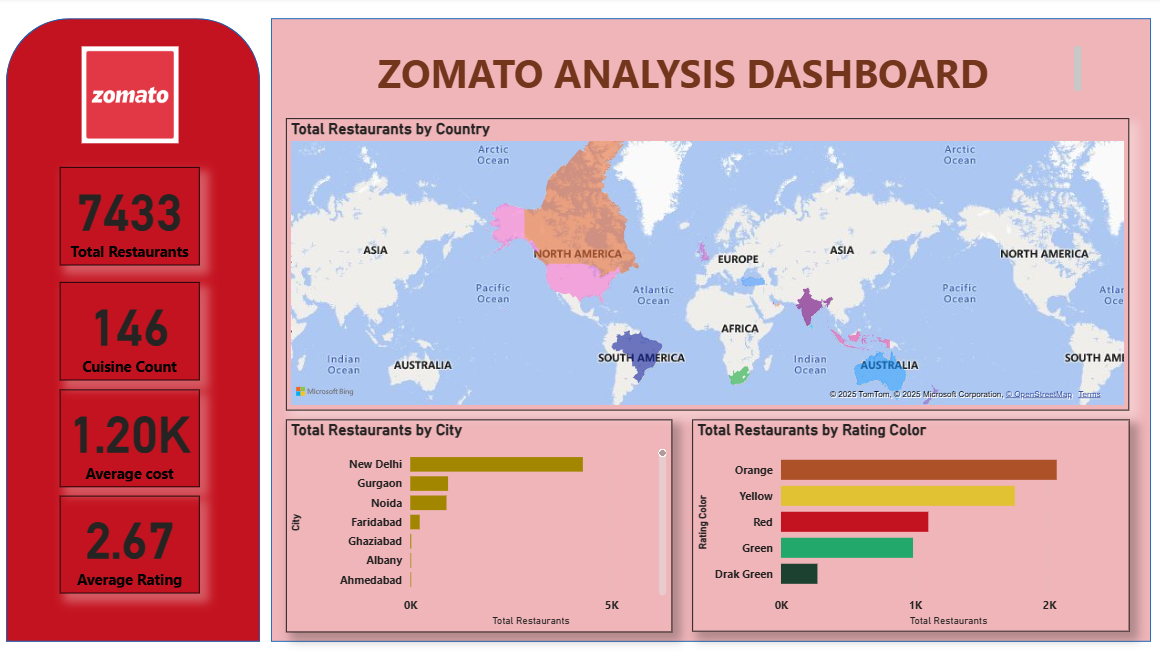

Layout of this report page (visuals, bound fields, positions):
{"tool":"powerbi","page":{"name":"Home ","canvas":[1280,720],"ordinal":0},"visuals":[{"type":"shape","box":[10.4,23.5,279,684.5],"z":0},{"type":"image","box":[88.7,49.5,116,116],"z":1000},{"type":"shape","box":[302.5,23.5,966.1,684.5],"z":2000},{"type":"textbox","box":[331.1,49.5,865.7,62.6],"z":3000},{"type":"card","fields":{"Values":["Zomato Table.Total Restaurants"]},"box":[70.4,186.4,153.8,108.2],"z":4000},{"type":"card","fields":{"Values":["Cuisines.Cuisines Count"]},"box":[70.4,312.9,153.8,108.2],"z":5000},{"type":"card","fields":{"Values":["Fact Table.AVG Cost"]},"box":[70.4,430.2,153.8,106.9],"z":6000},{"type":"card","fields":{"Values":["Fact Table.AVG Rating"]},"box":[70.4,547.6,153.8,106.9],"z":7000},{"type":"filledMap","title":"Total Restaurants by Country ","fields":{"Category":["Country Code.Country"],"Series":["Country Code.Country"]},"box":[318.1,133,925.6,320.7],"z":8000},{"type":"clusteredBarChart","fields":{"Category":["Zomato Table.City"],"Y":["Zomato Table.Total Restaurants"]},"box":[318.1,464.1,423.7,233.4],"z":8001},{"type":"clusteredBarChart","fields":{"Y":["Zomato Table.Total Restaurants"],"Category":["Fact Table.Rating Color"]},"box":[764.4,464,479.7,232.8],"z":8002}]}

Visuals, with their boxes in screenshot pixels (x1, y1, x2, y2), scaled from the page's 1280x720 canvas onto the 1160x653 screenshot:
shape: [x1=9, y1=21, x2=262, y2=642]
image: [x1=80, y1=45, x2=186, y2=150]
shape: [x1=274, y1=21, x2=1150, y2=642]
textbox: [x1=300, y1=45, x2=1085, y2=102]
card - Zomato Table.Total Restaurants: [x1=64, y1=169, x2=203, y2=267]
card - Cuisines.Cuisines Count: [x1=64, y1=284, x2=203, y2=382]
card - Fact Table.AVG Cost: [x1=64, y1=390, x2=203, y2=487]
card - Fact Table.AVG Rating: [x1=64, y1=497, x2=203, y2=594]
"Total Restaurants by Country " filledMap: [x1=288, y1=121, x2=1127, y2=411]
clusteredBarChart - Zomato Table.City x Zomato Table.Total Restaurants: [x1=288, y1=421, x2=672, y2=633]
clusteredBarChart - Zomato Table.Total Restaurants x Fact Table.Rating Color: [x1=693, y1=421, x2=1127, y2=632]
